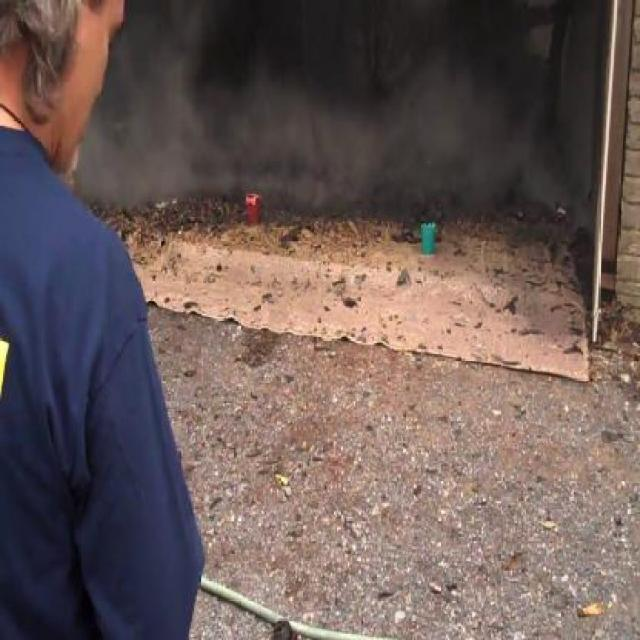smoke: (118, 30, 580, 241)
